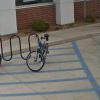Bicycle: (28, 27, 51, 74)
